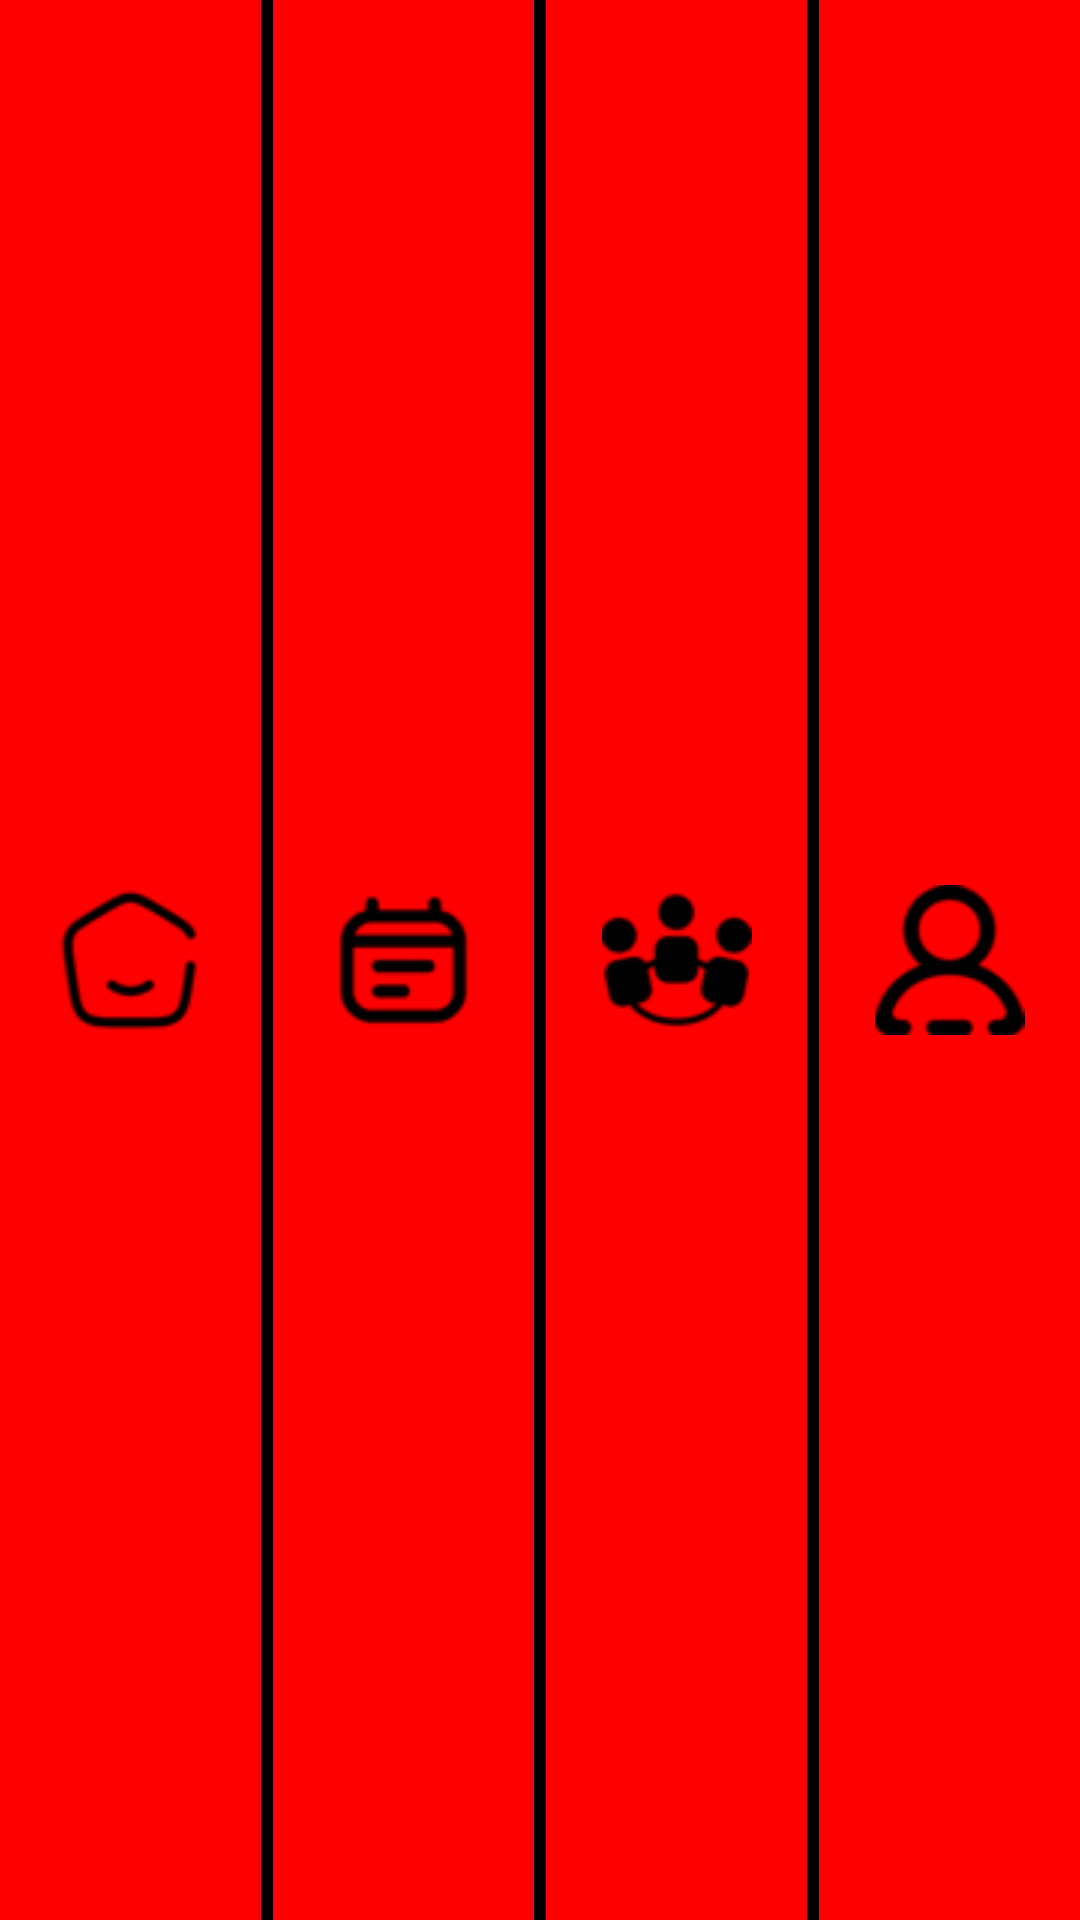

Icons on this 1080×1920 Android screen, each with its box as {"left": x1, "top": y1, "right": x2, "bottom": y2}:
Community Button: {"left": 602, "top": 893, "right": 752, "bottom": 1027}
Home Button: {"left": 61, "top": 890, "right": 198, "bottom": 1030}
Profile Button: {"left": 875, "top": 885, "right": 1025, "bottom": 1035}
Upcoming Button: {"left": 339, "top": 896, "right": 468, "bottom": 1024}
